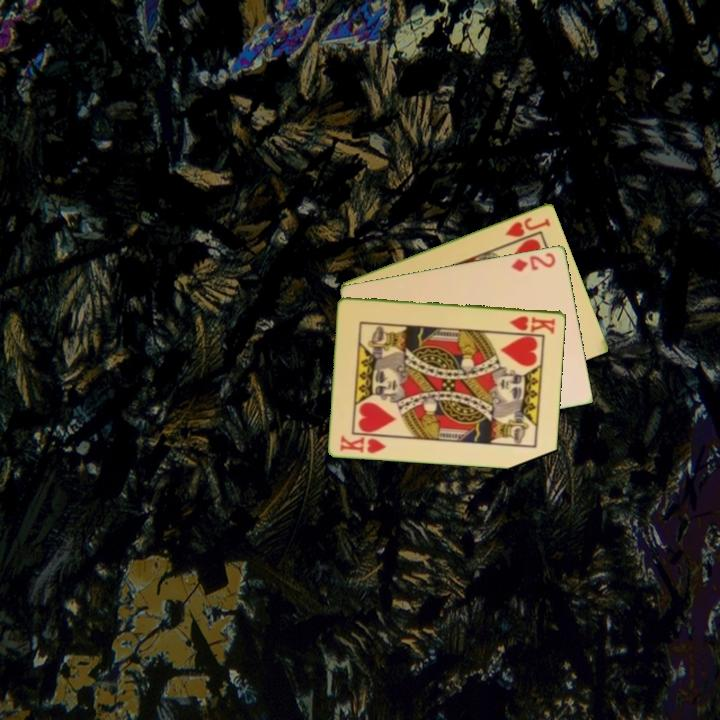2d: (508, 249, 559, 274)
Jh: (502, 214, 554, 240)
Kh: (506, 312, 558, 336), (337, 432, 389, 456)
